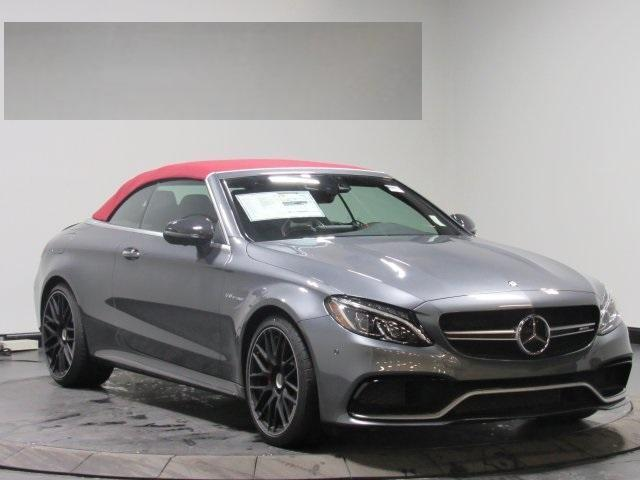C63AMG: (32, 150, 634, 446)
